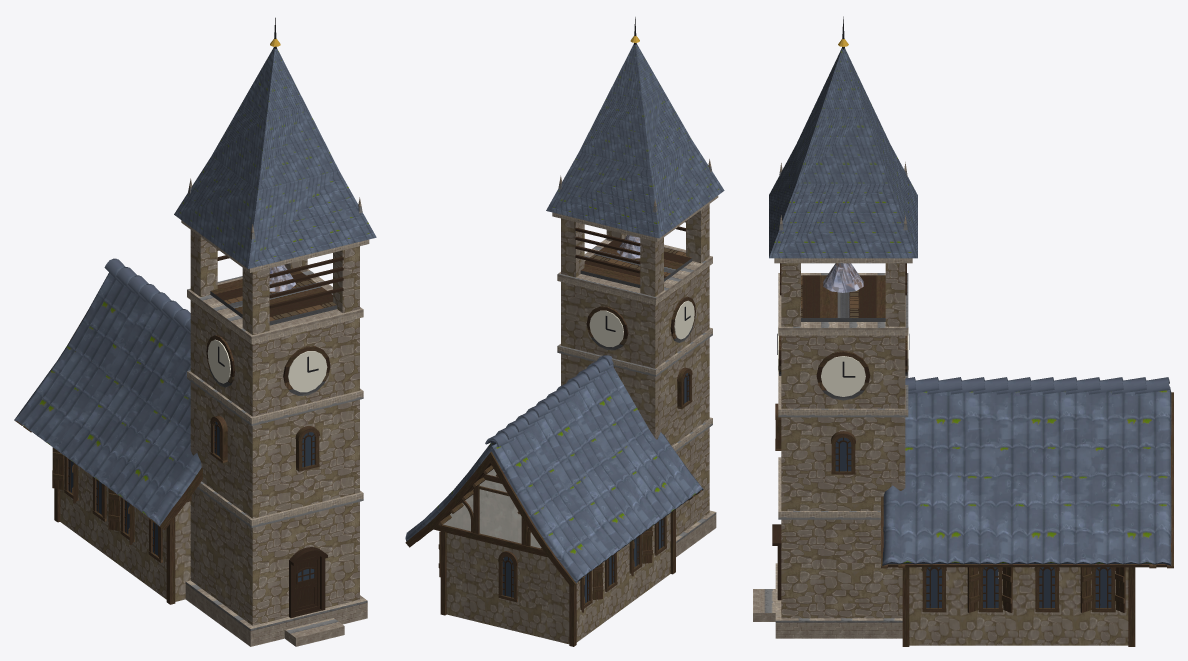
The model's file is clock_tower.glb.
The picture shows the model from 3 angles, left to right: view 1: azimuth 30°, elevation 25°; view 2: azimuth 150°, elevation 25°; view 3: azimuth 270°, elevation 25°; orthographic projection. The views are drawn at different scales.
Visible parts, largest first — view 1: Tower.002, Roof_RoundTiles_6x8.081, Spire.043, TowerPlinth.001, Course.005, BelfryFloor.032, Course.004, Pier.028, Course.003, Pier.029, Pier.030, Door_1_Round.007 (+17 smaller); view 2: Roof_RoundTiles_6x8.081, Spire.043, Tower.002, Roof_Front_Brick6.082, Wall_UnevenBrick_Straight.070, Wall_UnevenBrick_Straight.073, Wall_UnevenBrick_Window_Thin_Round.071, Course.005, BelfryFloor.032, Pier.029, Course.004, Pier.031 (+16 smaller); view 3: Roof_RoundTiles_6x8.081, Tower.002, Spire.043, Wall_UnevenBrick_Window_Thin_Round.065, BelfryFloor.032, Wall_UnevenBrick_Window_Thin_Round.060, TowerPlinth.001, Wall_UnevenBrick_Window_Thin_Round.062, Wall_UnevenBrick_Window_Thin_Round.067, Course.005, Course.004, ClockFace.017 (+16 smaller).
Boxes of the visible parts, box(x1,y1,x2,y2) form: Tower.002: box(190, 300, 359, 625); Roof_RoundTiles_6x8.081: box(14, 258, 202, 530); Spire.043: box(174, 48, 376, 268); TowerPlinth.001: box(185, 580, 367, 646); Course.005: box(187, 269, 363, 344); BelfryFloor.032: box(210, 269, 337, 325); Course.004: box(187, 370, 363, 425); Pier.028: box(242, 268, 269, 334); Course.003: box(197, 481, 363, 527); Pier.029: box(190, 230, 217, 296); Pier.030: box(333, 246, 359, 312); Door_1_Round.007: box(294, 555, 319, 615); Roof_RoundTiles_6x8.081: box(405, 355, 703, 586); Spire.043: box(546, 44, 724, 238); Tower.002: box(561, 266, 709, 537); Roof_Front_Brick6.082: box(433, 465, 548, 557); Wall_UnevenBrick_Straight.070: box(446, 533, 487, 624); Wall_UnevenBrick_Straight.073: box(530, 553, 569, 644); Wall_UnevenBrick_Window_Thin_Round.071: box(487, 542, 530, 634); Course.005: box(557, 238, 712, 304); BelfryFloor.032: box(580, 238, 692, 288); Pier.029: box(640, 237, 663, 296); Course.004: box(557, 327, 712, 376); Pier.031: box(561, 218, 584, 277); Roof_RoundTiles_6x8.081: box(881, 377, 1173, 568); Tower.002: box(781, 335, 905, 618); Spire.043: box(769, 48, 917, 258); Wall_UnevenBrick_Window_Thin_Round.065: box(1019, 567, 1075, 645); BelfryFloor.032: box(801, 275, 885, 321); Wall_UnevenBrick_Window_Thin_Round.060: box(909, 567, 962, 645); TowerPlinth.001: box(775, 563, 902, 638); Wall_UnevenBrick_Window_Thin_Round.062: box(962, 567, 1018, 645); Wall_UnevenBrick_Window_Thin_Round.067: box(1075, 567, 1128, 645); Course.005: box(778, 273, 908, 335); Course.004: box(778, 371, 908, 417); ClockFace.017: box(821, 356, 865, 396).
Bounding box in the file's own units: 8.25 × 23.3 × 14.91.
10 materials, 6 textured.
